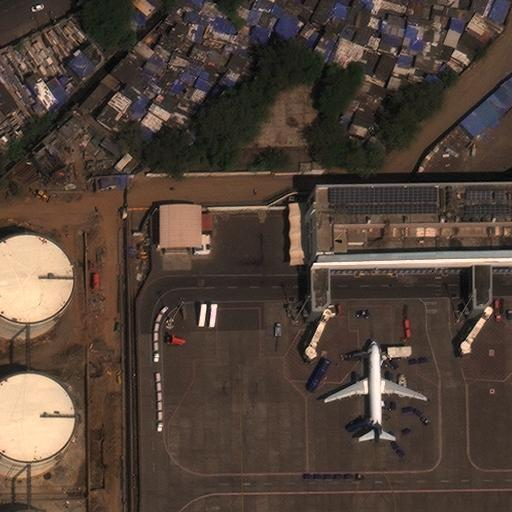Medium Civil Transport: (324, 341, 425, 441)
